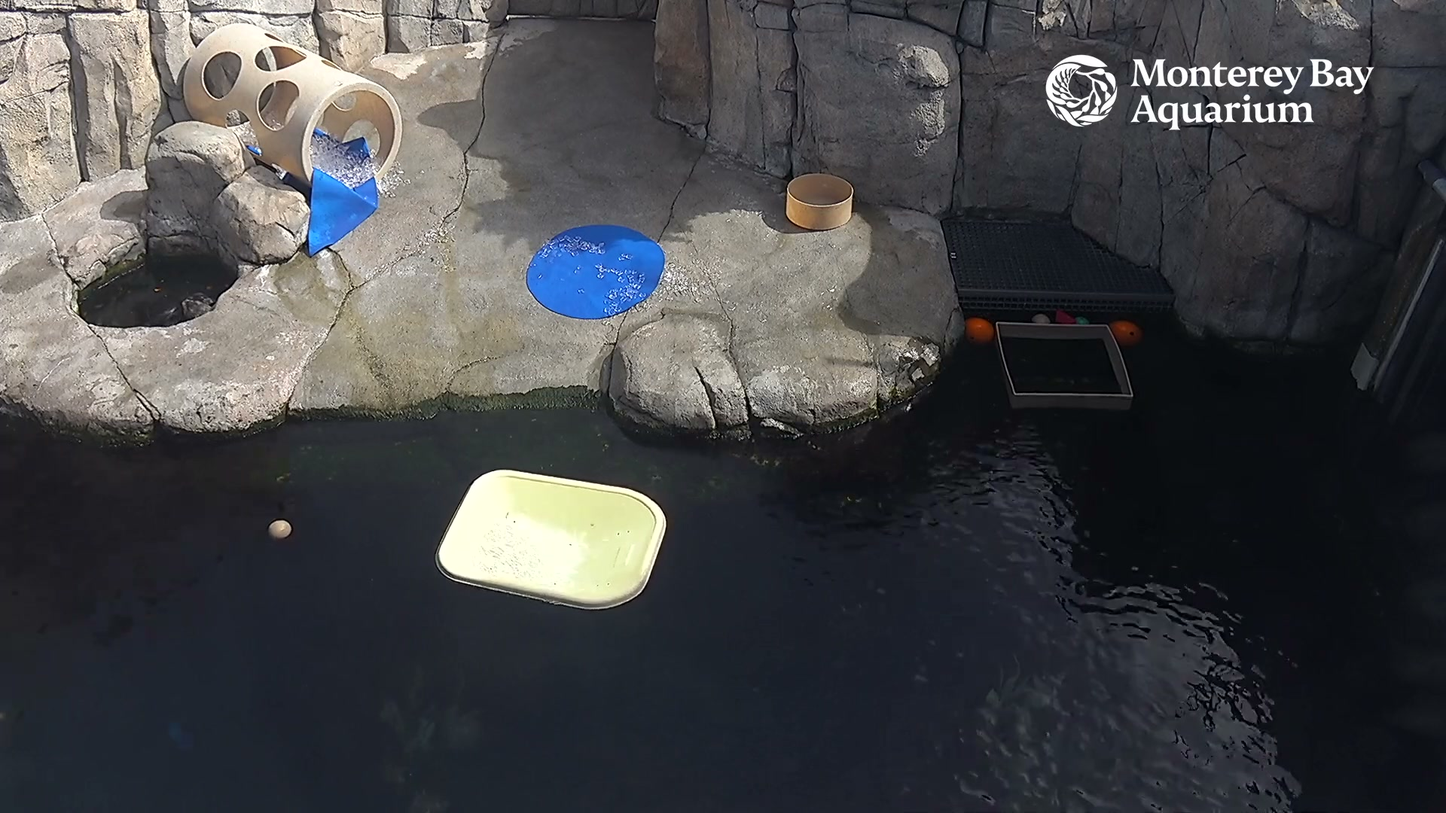Southern Sea Otter: (171, 289, 218, 318)
